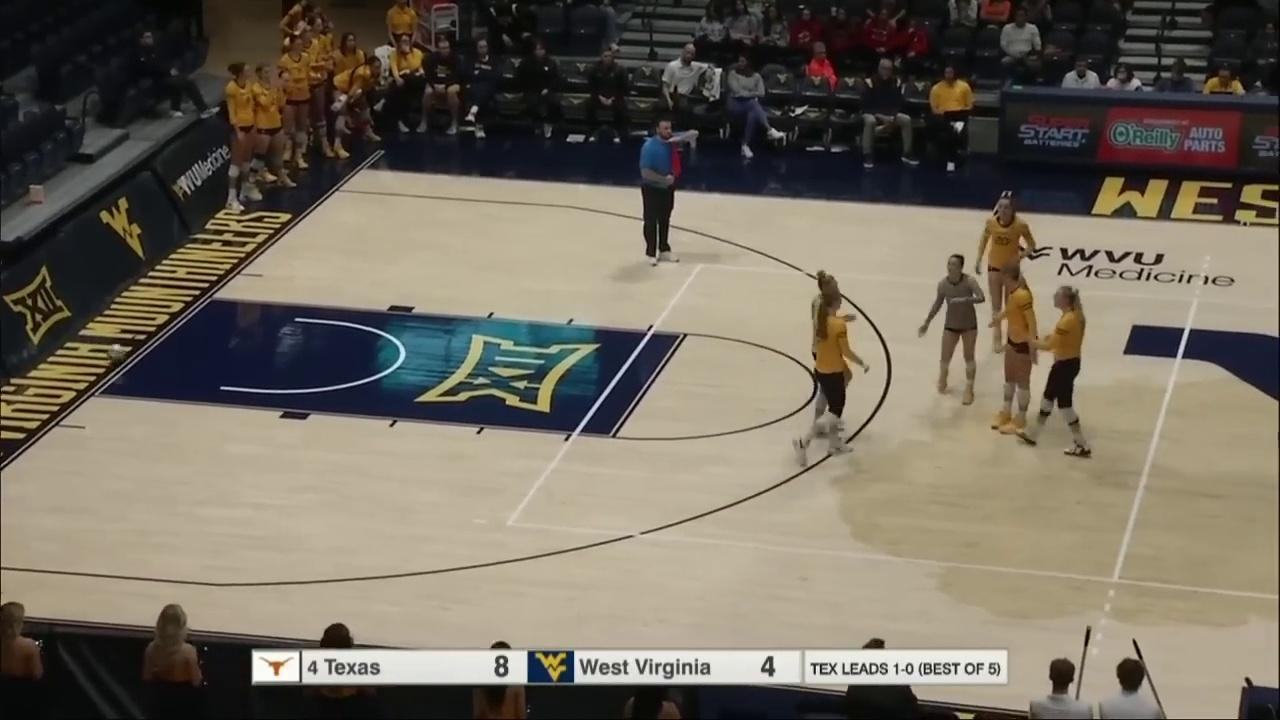player: (791, 292, 867, 465), (1021, 285, 1094, 455), (920, 255, 984, 405), (976, 194, 1037, 349), (992, 265, 1039, 433), (811, 268, 855, 433)
refree: (640, 120, 698, 261)
